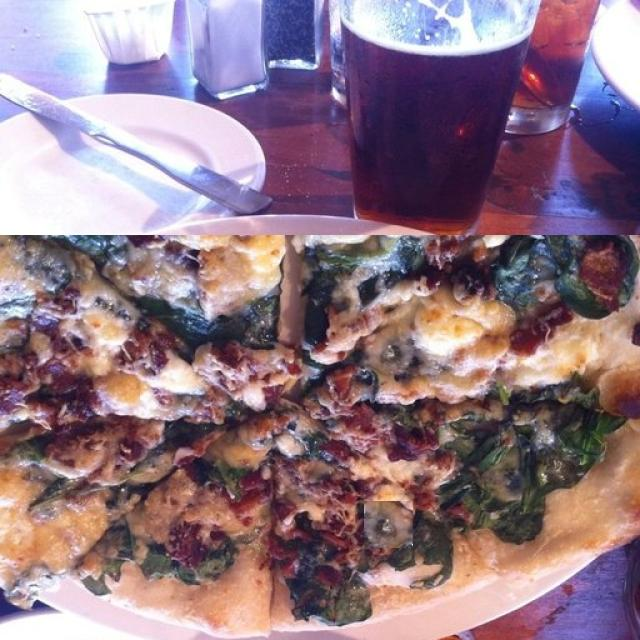olive: (364, 501, 413, 548)
pizza: (0, 235, 640, 640)
